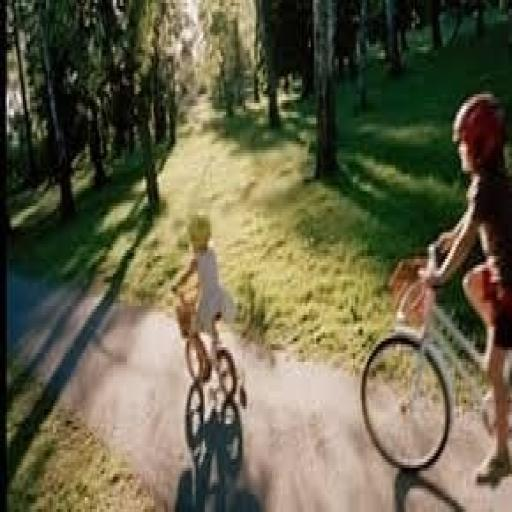cycling: (415, 88, 510, 488), (173, 209, 237, 385)
